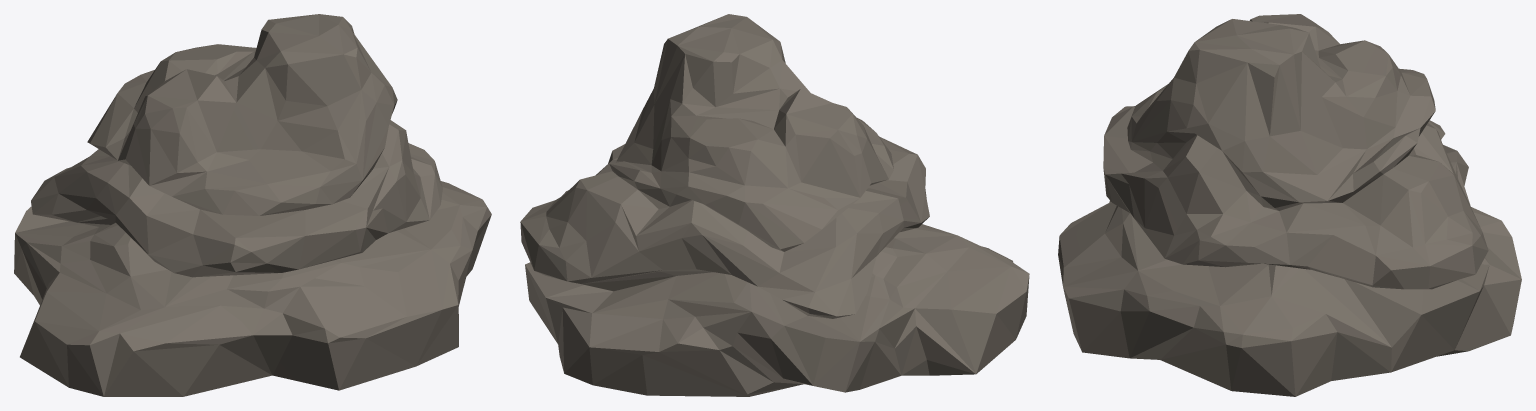
Rendered from SM_Env_Rock_Large_06.glb.
3 views of the same model, side by side, from view 1: azimuth 30°, elevation 25°; view 2: azimuth 150°, elevation 25°; view 3: azimuth 270°, elevation 25° (orthographic). The views are drawn at different scales.
Visible parts, largest first — view 1: SM_Env_Rock_Large_06; view 2: SM_Env_Rock_Large_06; view 3: SM_Env_Rock_Large_06.
Boxes of the visible parts, left/top/right/bottom form: SM_Env_Rock_Large_06: left=14, top=14, right=491, bottom=396; SM_Env_Rock_Large_06: left=520, top=14, right=1029, bottom=396; SM_Env_Rock_Large_06: left=1058, top=14, right=1521, bottom=396.
Bounding box in the file's own units: 0.0938 × 0.0573 × 0.0805.
Materials: 1 (1 with a texture image).
